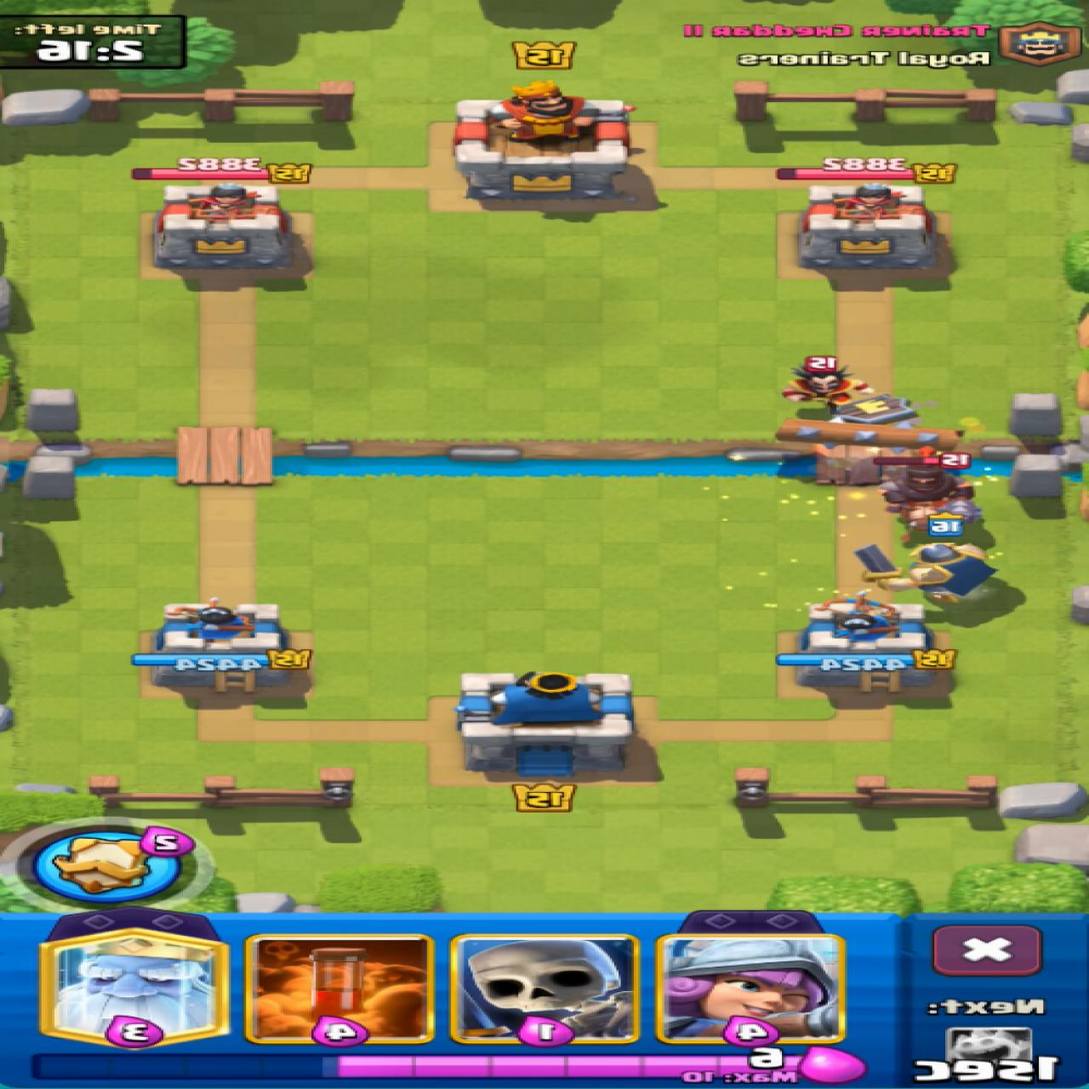Enemy-DarkPrince: (882, 466, 980, 531)
Enemy-ElectroWizard: (784, 357, 876, 413)
Enemy-KingTower: (455, 81, 629, 198)
Enemy-PrincessTower: (155, 183, 298, 278), (799, 183, 937, 269)
